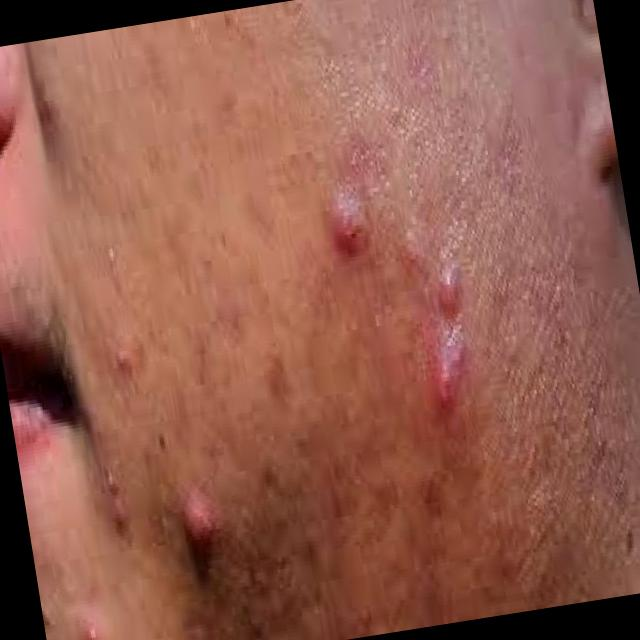blackhead: (157, 433, 168, 452)
nodule: (422, 334, 476, 414), (320, 188, 378, 258), (176, 485, 225, 553), (433, 259, 467, 314), (75, 612, 110, 640)
